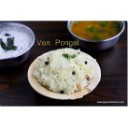venpongal: (38, 50, 95, 91)
